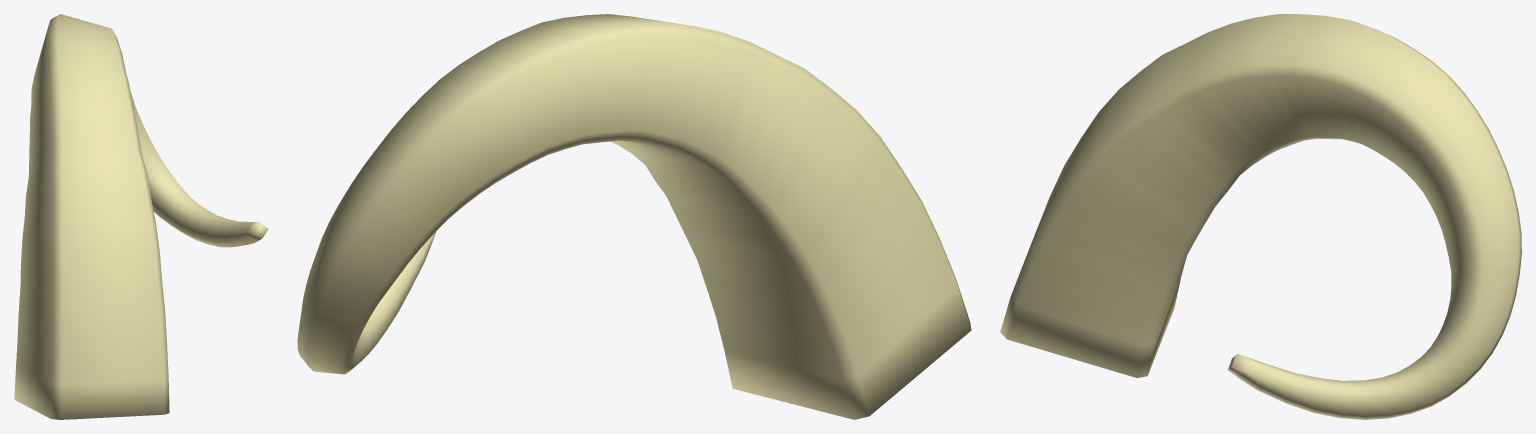
The model's file is ramhorn.fbx.
3 renders of one model, left to right at view 1: azimuth 30°, elevation 25°; view 2: azimuth 150°, elevation 25°; view 3: azimuth 270°, elevation 25°, orthographic. The views are drawn at different scales.
Parts seen in each view (by area): view 1: Ram Horn; view 2: Ram Horn; view 3: Ram Horn.
Boxes of the visible parts, box(x1,y1,x2,y2) form: Ram Horn: box(14, 14, 268, 419); Ram Horn: box(297, 14, 971, 419); Ram Horn: box(1000, 14, 1521, 419).
Bounding box in the file's own units: 191 × 235 × 182.
